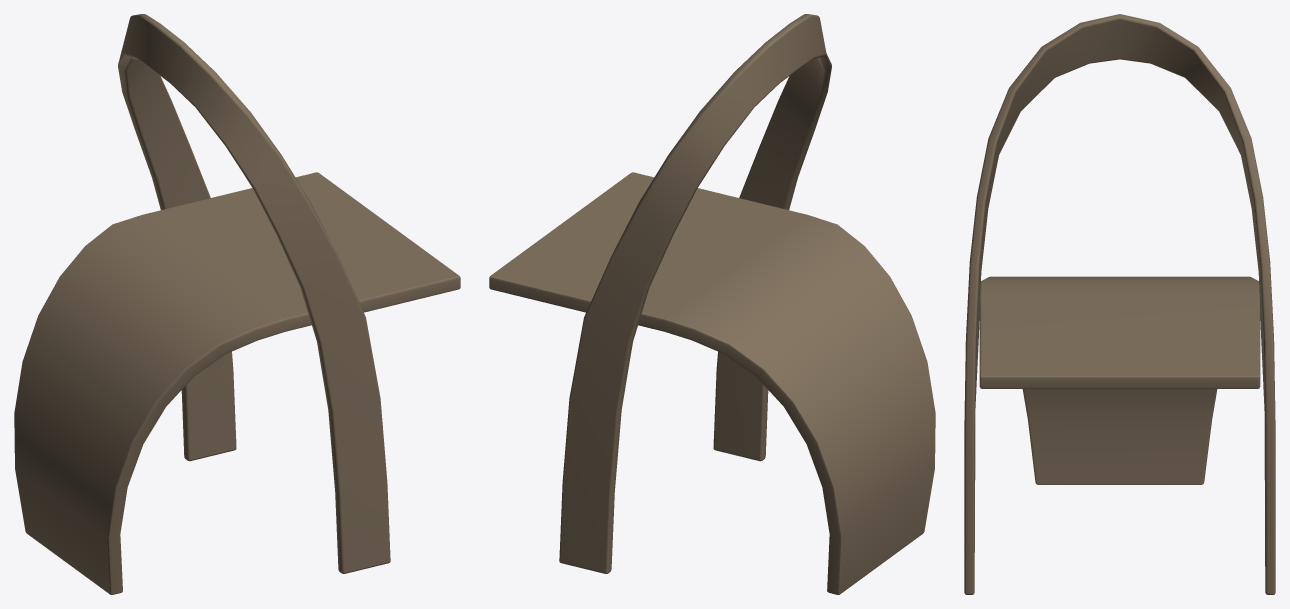
File: Desk_Chair.fbx
3 renders of one model, left to right at view 1: azimuth 30°, elevation 25°; view 2: azimuth 150°, elevation 25°; view 3: azimuth 270°, elevation 25°, orthographic. The views are drawn at different scales.
Visible parts, largest first — view 1: Chair; view 2: Chair; view 3: Chair.
Part boxes in pixels (left/top/right/bottom): Chair: left=14, top=14, right=460, bottom=594; Chair: left=489, top=14, right=935, bottom=594; Chair: left=964, top=14, right=1275, bottom=594.
Bounding box in the file's own units: 73.56 × 111 × 61.82.
